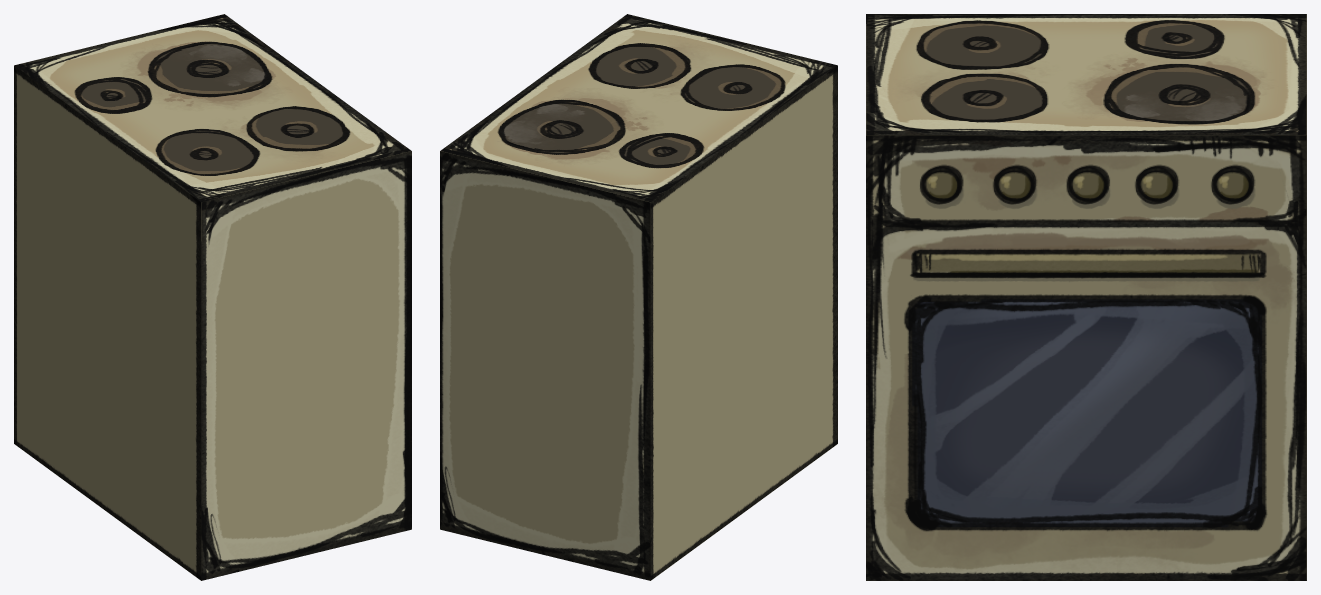
File: stove_final.fbx
The picture shows the model from 3 angles, left to right: view 1: azimuth 30°, elevation 25°; view 2: azimuth 150°, elevation 25°; view 3: azimuth 270°, elevation 25°; orthographic projection. The views are drawn at different scales.
Parts seen in each view (by area): view 1: stove.001; view 2: stove.001; view 3: stove.001.
Part boxes in pixels (x1,y1,x2,y2): stove.001: [14, 14, 411, 580]; stove.001: [440, 14, 837, 580]; stove.001: [866, 14, 1306, 580].
Bounding box in the file's own units: 0.8347 × 1.43 × 1.29.
Materials: 1 (1 with a texture image).
